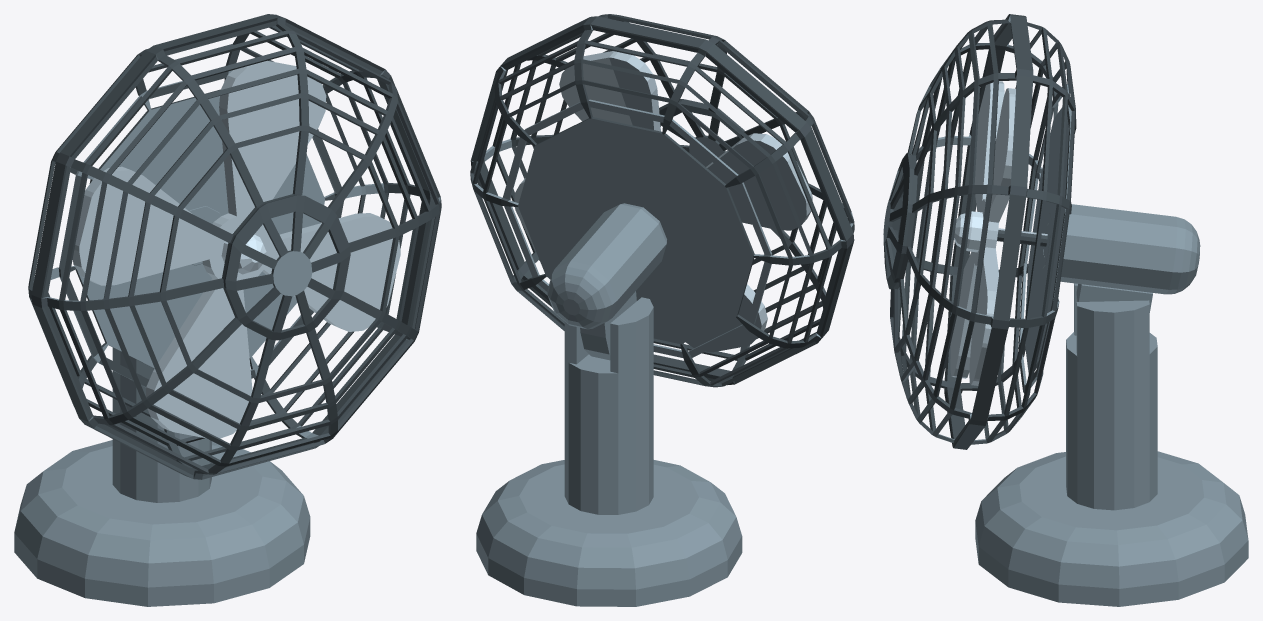
The model's file is fan.fbx.
The picture shows the model from 3 angles, left to right: view 1: azimuth 30°, elevation 25°; view 2: azimuth 150°, elevation 25°; view 3: azimuth 270°, elevation 25°; orthographic projection. The views are drawn at different scales.
Visible parts, largest first — view 1: Fan 2; view 2: Fan 2; view 3: Fan 2.
Boxes of the visible parts, x1,y1,x2,y2 form: Fan 2: [14, 14, 441, 606]; Fan 2: [470, 14, 854, 606]; Fan 2: [883, 14, 1248, 606].
Bounding box in the file's own units: 0.3397 × 0.434 × 0.2821.
